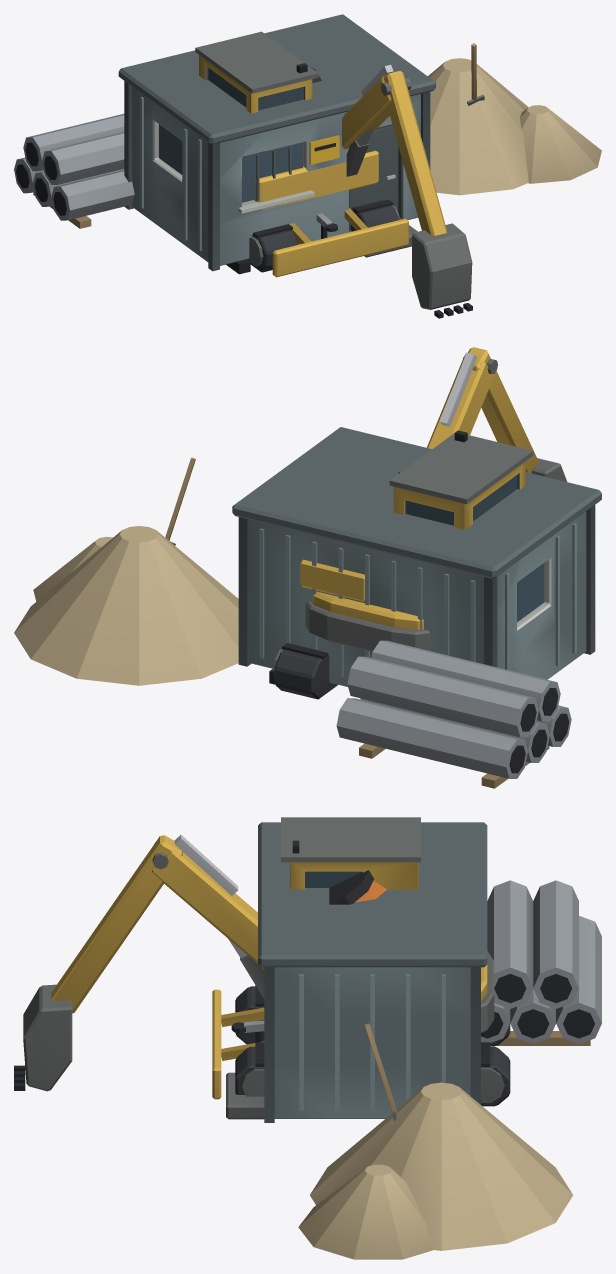
Rendered from construction-props.glb.
The picture shows the model from 3 angles, top to bottom: view 1: azimuth 30°, elevation 25°; view 2: azimuth 150°, elevation 25°; view 3: azimuth 270°, elevation 25°; orthographic projection. The views are drawn at different scales.
Parts seen in each view (by area): view 1: SiteHut, Excavator, Materials; view 2: SiteHut, Materials, Excavator; view 3: SiteHut, Materials, Excavator, Mixer.
Part boxes in pixels (x1=…): SiteHut: x1=118, y1=14, x2=435, y2=274; Excavator: x1=195, y1=31, x2=472, y2=318; Materials: x1=14, y1=43, x2=601, y2=228; SiteHut: x1=232, y1=427, x2=601, y2=686; Materials: x1=14, y1=457, x2=571, y2=788; Excavator: x1=273, y1=347, x2=567, y2=699; SiteHut: x1=226, y1=822, x2=487, y2=1122; Materials: x1=298, y1=880, x2=601, y2=1259; Excavator: x1=14, y1=817, x2=510, y2=1106; Mixer: x1=231, y1=870, x2=386, y2=1042.
Bounding box in the file's own units: 6.03 × 2.43 × 5.13.
